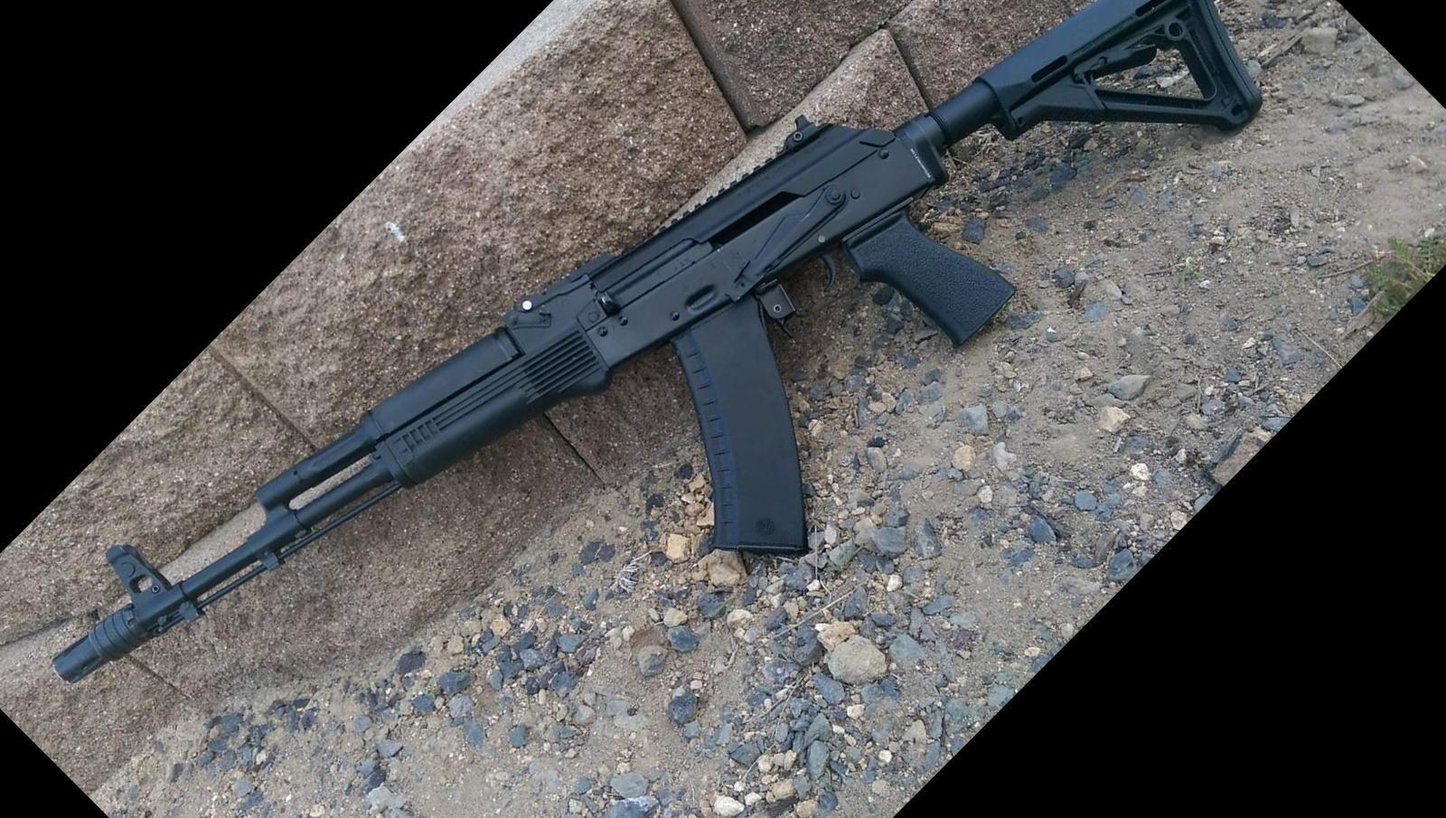larga: (53, 2, 1264, 685)
